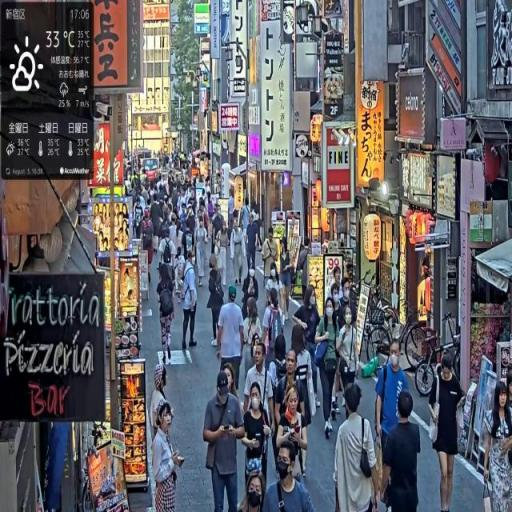person: (203, 366, 252, 512), (425, 347, 467, 512), (333, 378, 382, 512), (381, 389, 422, 512), (377, 339, 408, 472), (152, 400, 188, 512), (482, 378, 512, 512), (264, 435, 315, 512), (316, 295, 343, 439), (242, 387, 274, 504), (216, 287, 246, 401), (276, 390, 309, 479), (181, 249, 199, 356), (158, 263, 176, 368), (207, 253, 226, 348), (239, 471, 268, 512), (232, 215, 247, 289), (246, 213, 259, 277)
